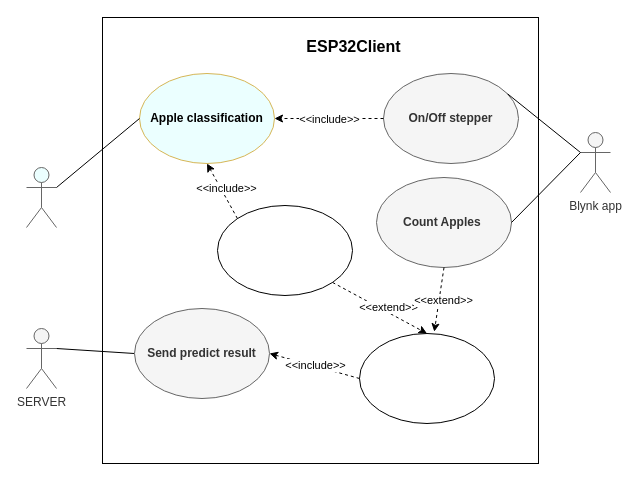
The diagram is 639 pixels wide and 481 high, and some of its shapes have lost their labels. The centre of each missing label's shape, as x and y in pixels:
Control Stepper: point (284, 250)
stepper: point (41, 197)
Take predict result: point (426, 378)
